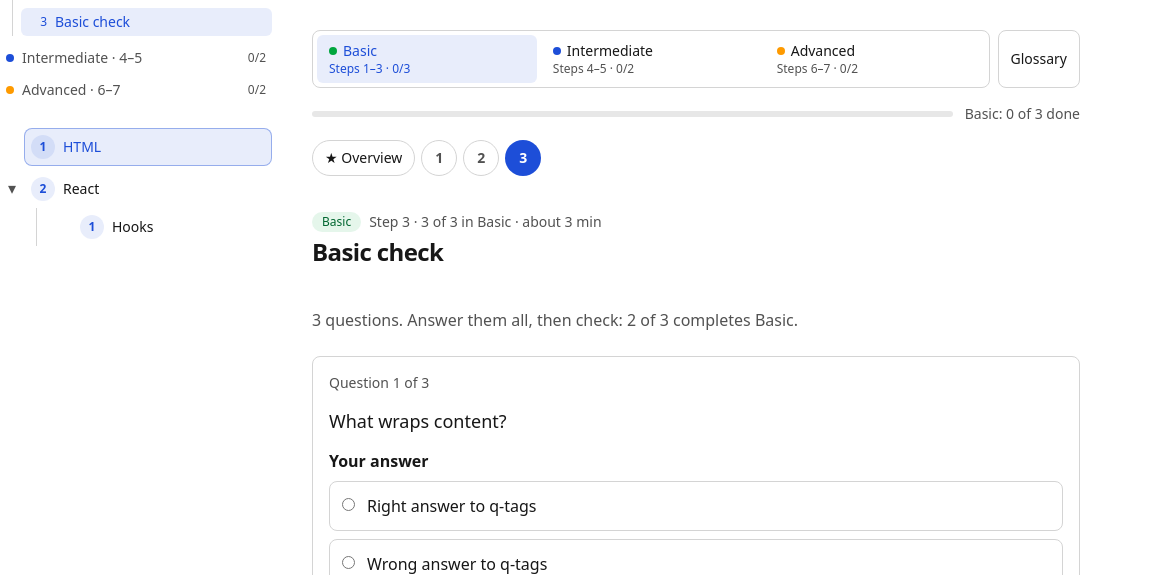
Test: LevelCheck › completes the level with all but one right, points back for the miss and leads on
Expected: the text "What wraps content?" is shown, [329,409,507,433]
What coordinates should you click on to do the following:
click the radio button labelled "Right answer to q-tags"
I would click on:
 (348, 504)
Its box is [342,498,355,511].
(page scrolled)
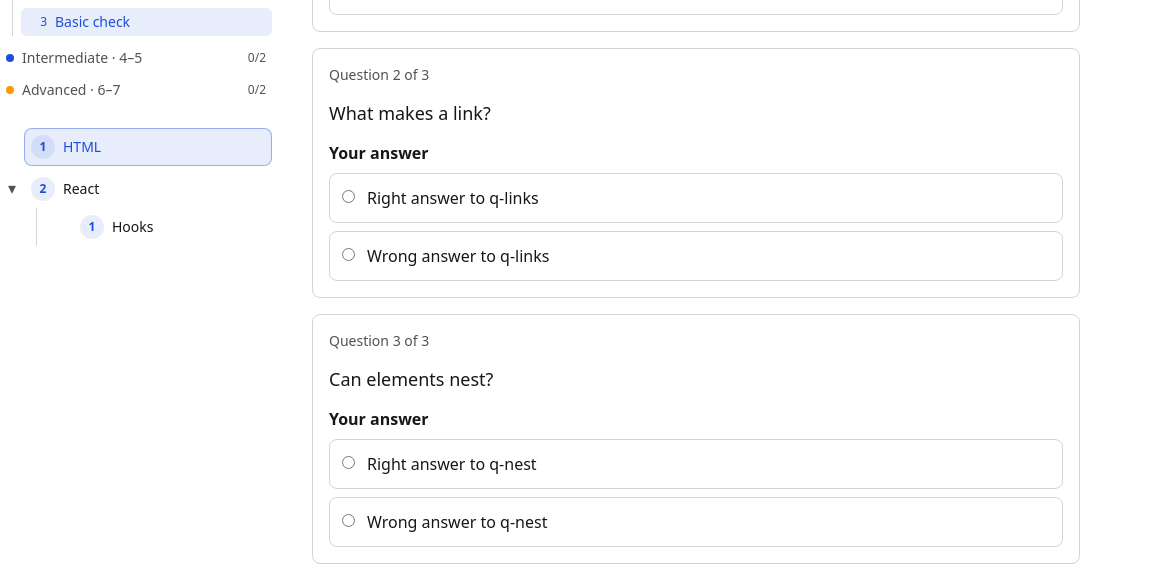
What coordinates should you click on to do the following:
click the radio button labelled "Wrong answer to q-links"
I would click on:
 (348, 254)
Its box is [342,248,355,261].
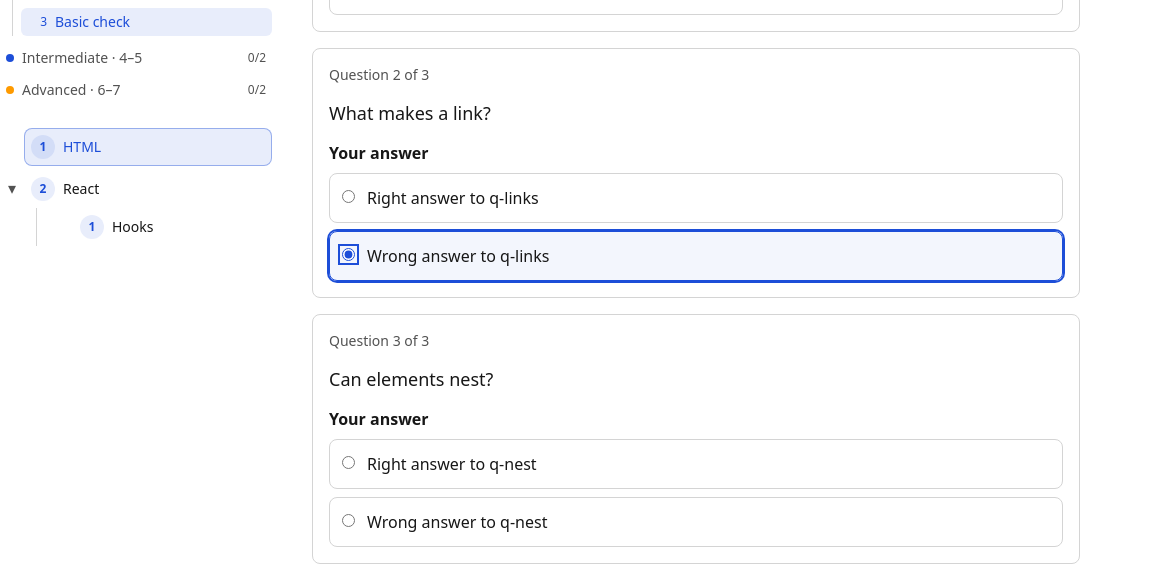
What coordinates should you click on to do the following:
click the radio button labelled "Right answer to q-nest"
I would click on:
 (348, 462)
Its box is [342,456,355,469].
(page scrolled)
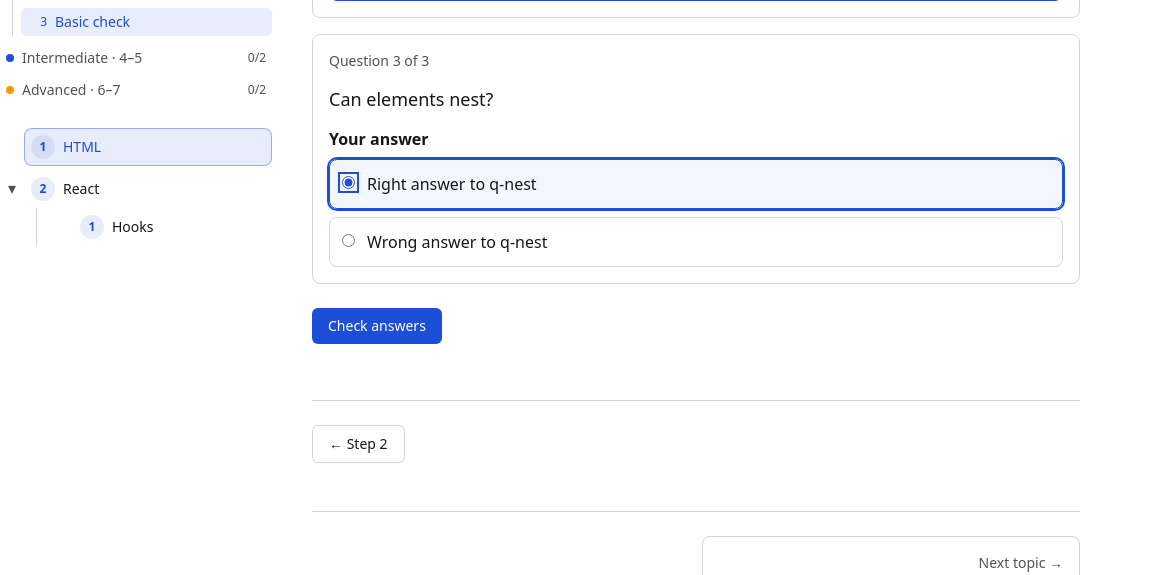
What coordinates should you click on to do the following:
click the button "Check answers"
I would click on:
 (377, 326)
Its box is [312,308,442,344].
(page scrolled)
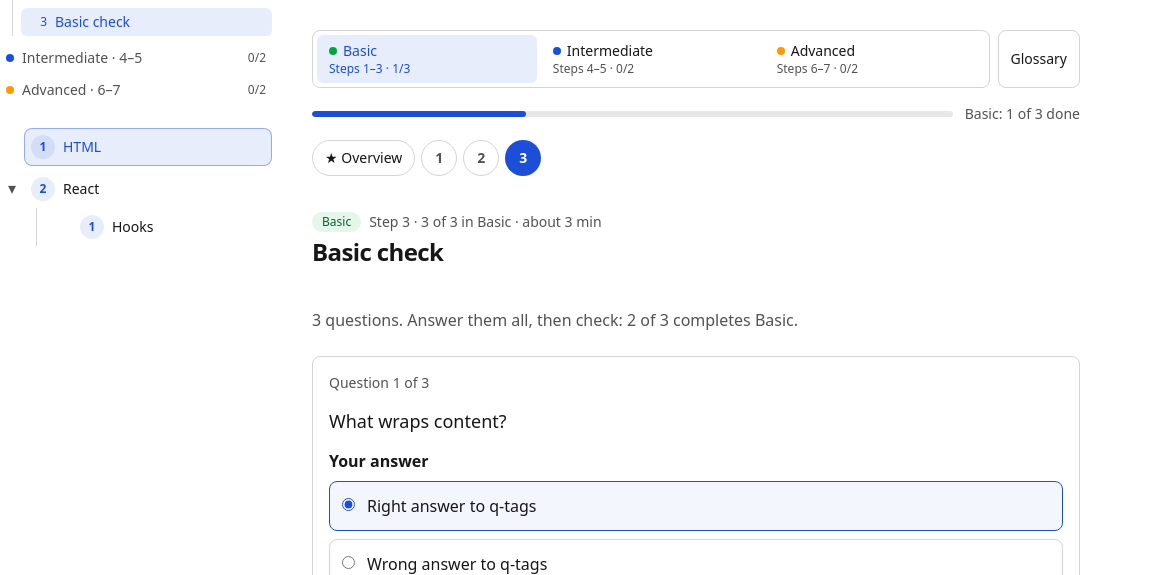
Result: the link named "Step 3: Basic check (level check) (done)" is shown at [505,140,541,176]
